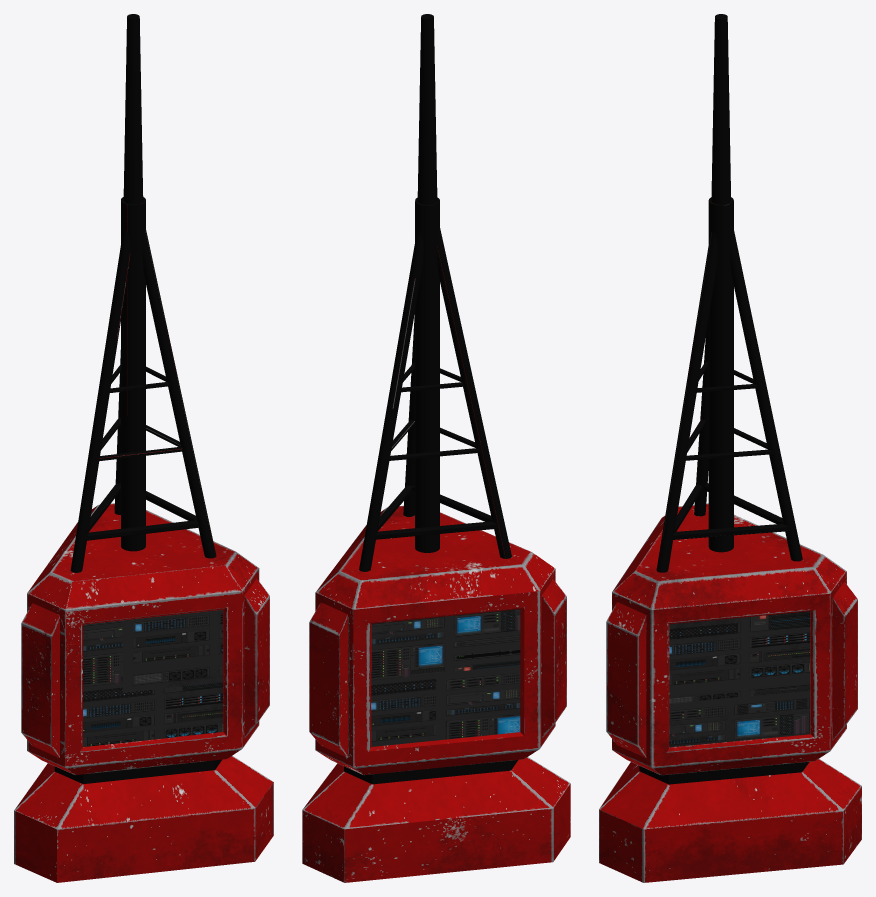
Rendered from Antenna.fbx.
The picture shows the model from 3 angles, left to right: view 1: azimuth 30°, elevation 25°; view 2: azimuth 150°, elevation 25°; view 3: azimuth 270°, elevation 25°; orthographic projection.
Parts seen in each view (by area): view 1: Antenna; view 2: Antenna; view 3: Antenna.
Part boxes in pixels (x1,y1,x2,y2): Antenna: (14, 14, 273, 882); Antenna: (302, 14, 570, 882); Antenna: (599, 14, 861, 882).
Bounding box in the file's own units: 1.97 × 6.86 × 2.
Materials: 1 (1 with a texture image).
